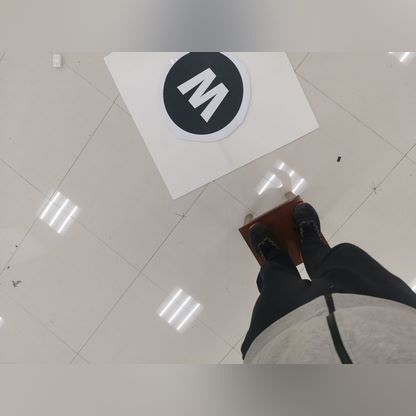W: (170, 59, 241, 127)
